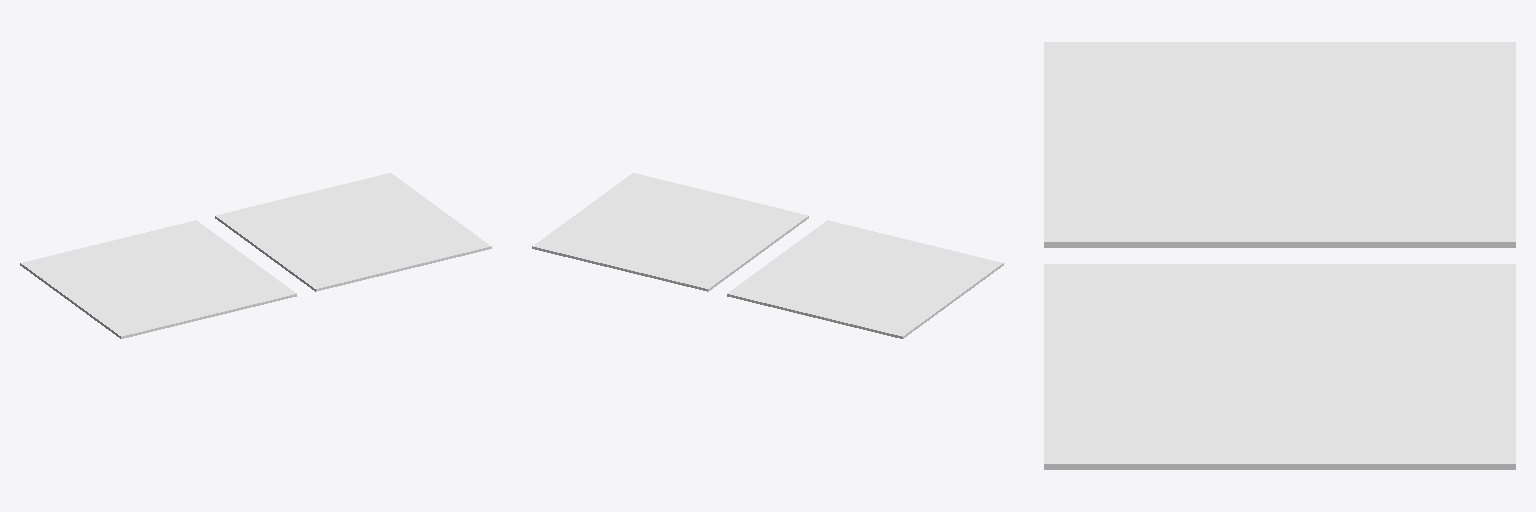
robot.urdf — ground_jump_easy:
<?xml version="1.0" ?>
<robot name="ground_jump_easy">
  <link name="ground"> </link>
  <joint name="ground_start_joint" type="fixed">
    <origin rpy="0 0 0" xyz="0 0 0"/>
    <parent link="ground"/>
    <child link="groundStart"/>
  </joint>
  <link name="groundStart">
    <visual>
      <origin xyz="0 0 0" rpy="0 0 0" />
      <geometry>
        <mesh filename="package://hpp-rbprm-corba/meshes/ground_jump_easyStart2.stl"/>
      </geometry>
      <material name="white">
        <color rgba="1 1 1 1"/>
      </material>
    </visual>
    <collision>
      <origin xyz="0 0 0" rpy="0 0 0" />
      <geometry>
        <mesh filename="package://hpp-rbprm-corba/meshes/ground_jump_easyStart2.stl"/>
      </geometry>
    </collision>
  </link>
  <joint name="ground_goal_joint" type="fixed">
    <origin rpy="0 0 0" xyz="0 0 0"/>
    <parent link="ground"/>
    <child link="groundGoal"/>
  </joint>
  <link name="groundGoal">
    <visual>
      <origin xyz="0 0 0" rpy="0 0 0" />
      <geometry>
        <mesh filename="package://hpp-rbprm-corba/meshes/ground_jump_easyGoal.stl"/>
      </geometry>
      <material name="white">
        <color rgba="1 1 1 1"/>
      </material>
    </visual>
    <collision>
      <origin xyz="0 0 0" rpy="0 0 0" />
      <geometry>
        <mesh filename="package://hpp-rbprm-corba/meshes/ground_jump_easyGoal.stl"/>
      </geometry>
    </collision>
  </link>
</robot>

--- What the picture shows (computed from the rendered views, not written in the file) ---
3 views of the same robot in one strip: view 1: azimuth 30°, elevation 25°; view 2: azimuth 150°, elevation 25°; view 3: azimuth 270°, elevation 25° (orthographic).
Robot: ground_jump_easy — 3 links, 2 joints (2 fixed); root link ground; default pose: all joints at 0.
Visible links, largest first — view 1: groundStart, groundGoal; view 2: groundStart, groundGoal; view 3: groundStart, groundGoal.
Boxes of the visible links, box(x1,y1,x2,y2) form: groundStart: box(20, 220, 296, 338); groundGoal: box(215, 173, 491, 291); groundStart: box(727, 220, 1003, 338); groundGoal: box(532, 173, 808, 291); groundStart: box(1044, 42, 1515, 247); groundGoal: box(1044, 264, 1515, 469).
Bounding box of the posed robot: 14.48 × 6.82 × 0.0948 m (x, y, z).
2 mesh visuals loaded from 2 distinct referenced files (2 binary STL).
